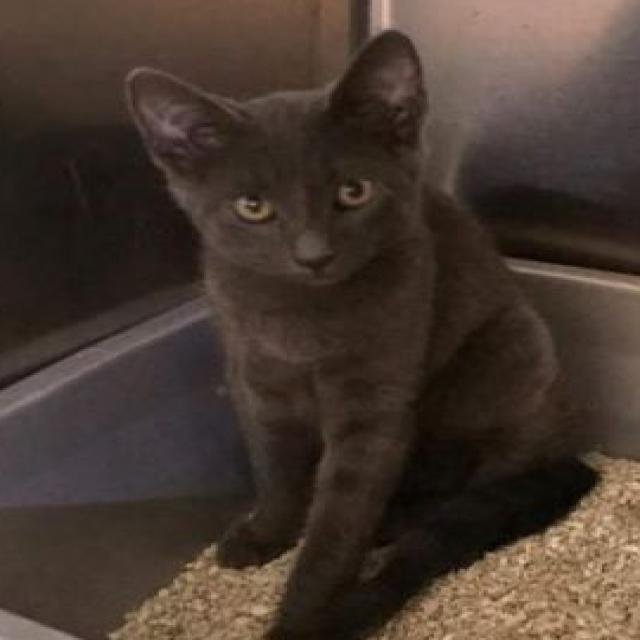Russian Blue: (121, 22, 600, 640)
